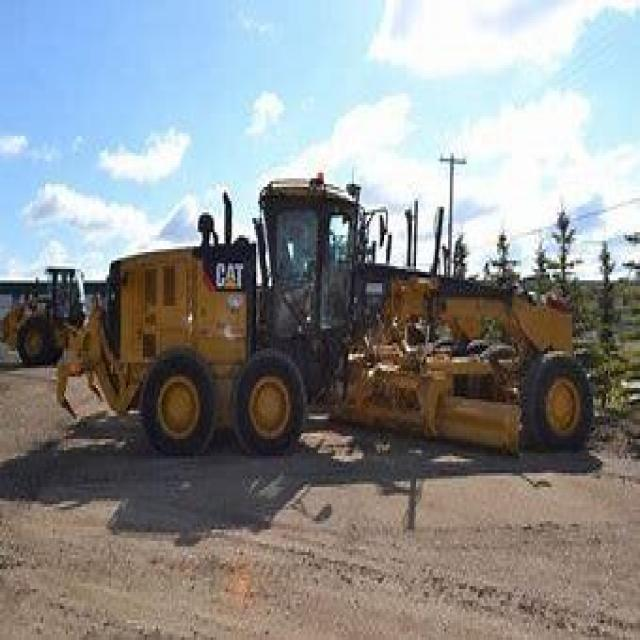Grader: (47, 165, 604, 468)
